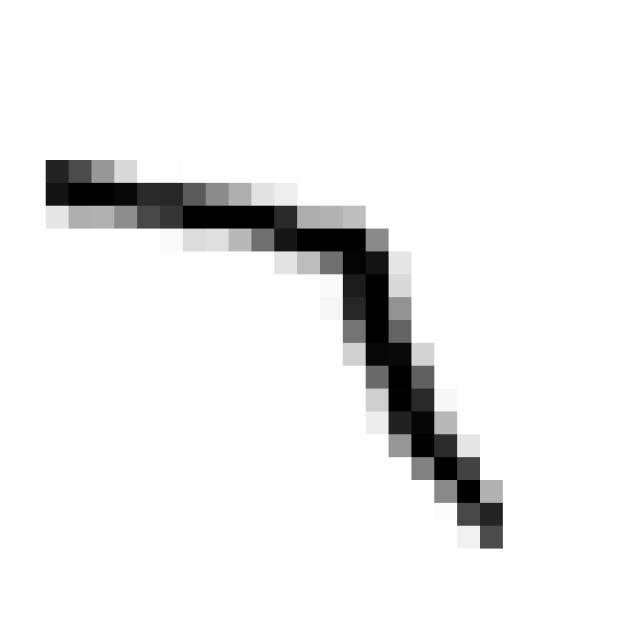6 -six-: (25, 142, 524, 568)
